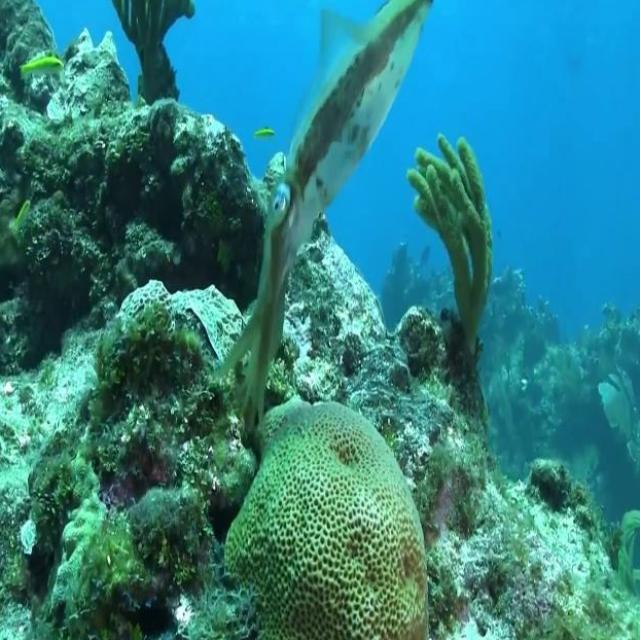SQUID: (158, 0, 455, 456)
